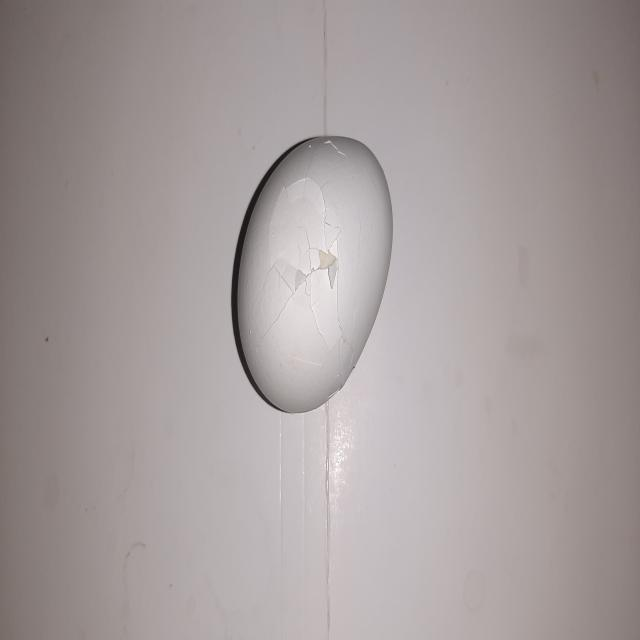egg shell: (231, 126, 395, 419)
